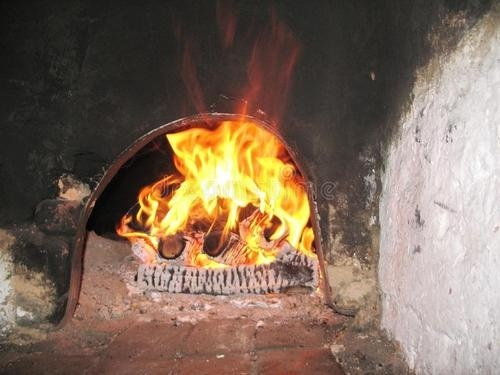fire: (122, 113, 317, 267)
